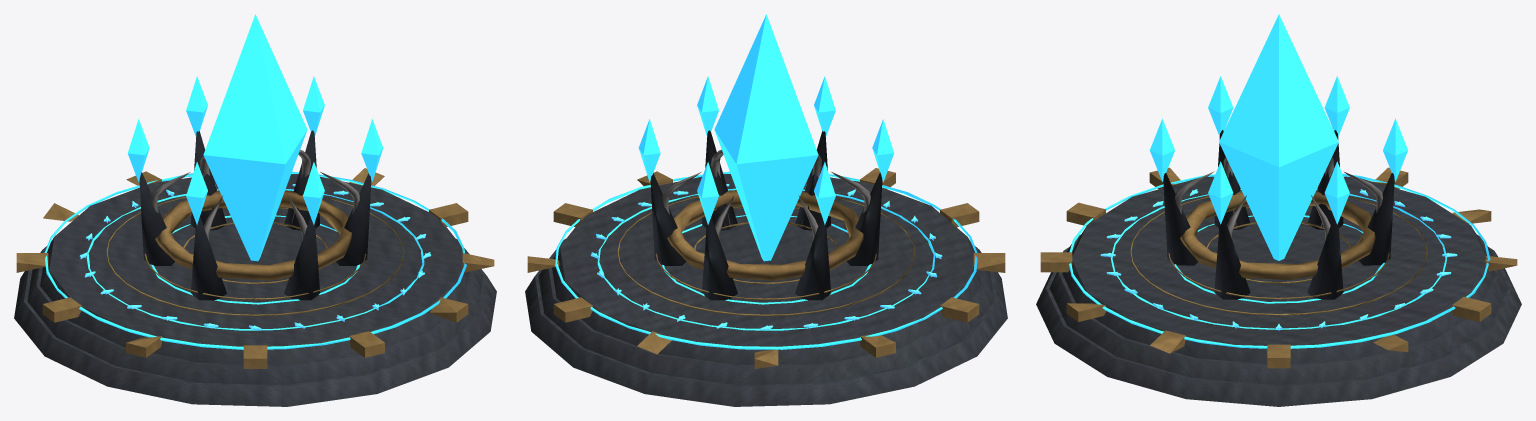
File: blue_core.gltf
The picture shows the model from 3 angles, left to right: view 1: azimuth 30°, elevation 25°; view 2: azimuth 150°, elevation 25°; view 3: azimuth 270°, elevation 25°; orthographic projection.
Parts seen in each view (by area): view 1: blue_core, blue_core__crystal; view 2: blue_core, blue_core__crystal; view 3: blue_core, blue_core__crystal.
Boxes of the visible parts, <box> form: blue_core: <box>14,76,496,406</box>; blue_core__crystal: <box>203,14,307,261</box>; blue_core: <box>525,76,1007,406</box>; blue_core__crystal: <box>714,14,818,261</box>; blue_core: <box>1036,76,1521,406</box>; blue_core__crystal: <box>1219,14,1338,260</box>.
Bounding box in the file's own units: 6.88 × 4.53 × 6.88.
Materials: 4 (2 with a texture image).
